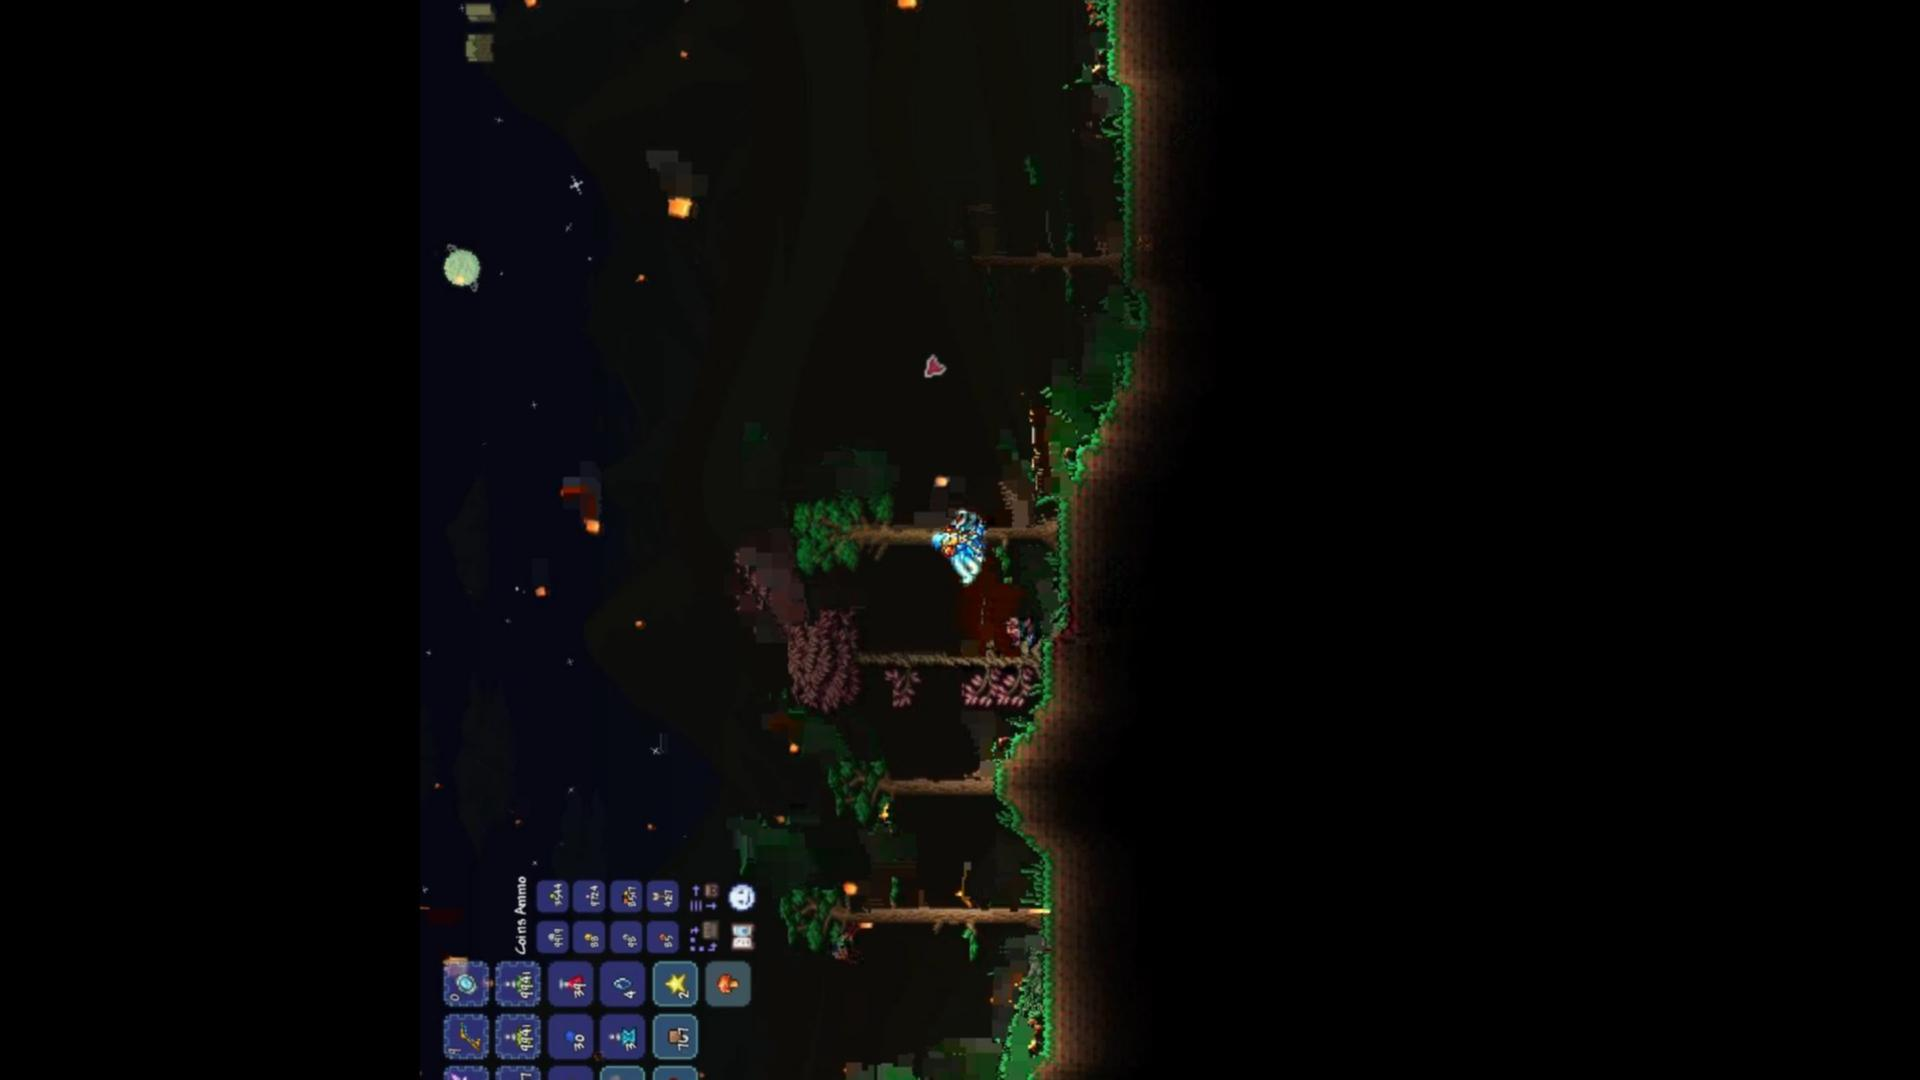mirror: (454, 971, 481, 997)
star: (663, 972, 687, 997)
